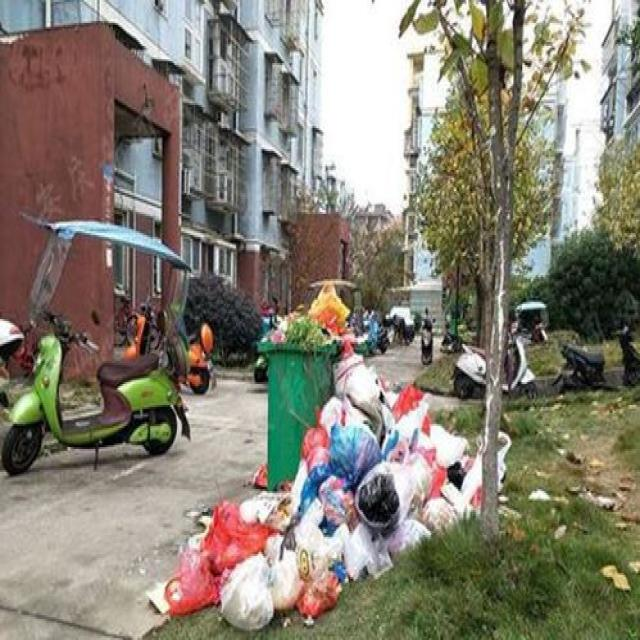garbage: (145, 337, 481, 630)
overflow: (254, 281, 348, 487)
